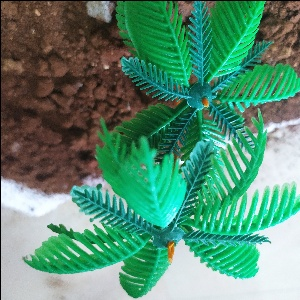plant: (21, 3, 300, 294)
